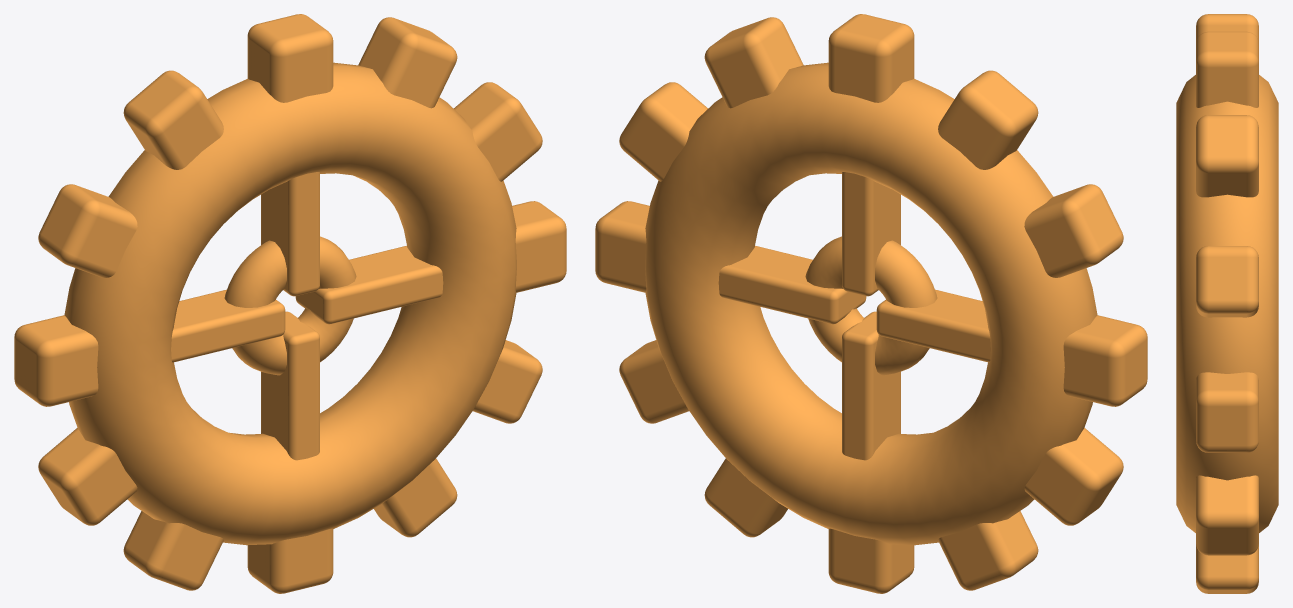
File: engrenagem.glb
3 renders of one model, left to right at view 1: azimuth 30°, elevation 25°; view 2: azimuth 150°, elevation 25°; view 3: azimuth 270°, elevation 25°, orthographic. The views are drawn at different scales.
Parts seen in each view (by area): view 1: Engrenagem; view 2: Engrenagem; view 3: Engrenagem.
Boxes of the visible parts, x1,y1,x2,y2 form: Engrenagem: (14, 14, 566, 593); Engrenagem: (595, 14, 1147, 593); Engrenagem: (1176, 14, 1278, 593).
Bounding box in the file's own units: 0.682 × 0.682 × 0.1209.
